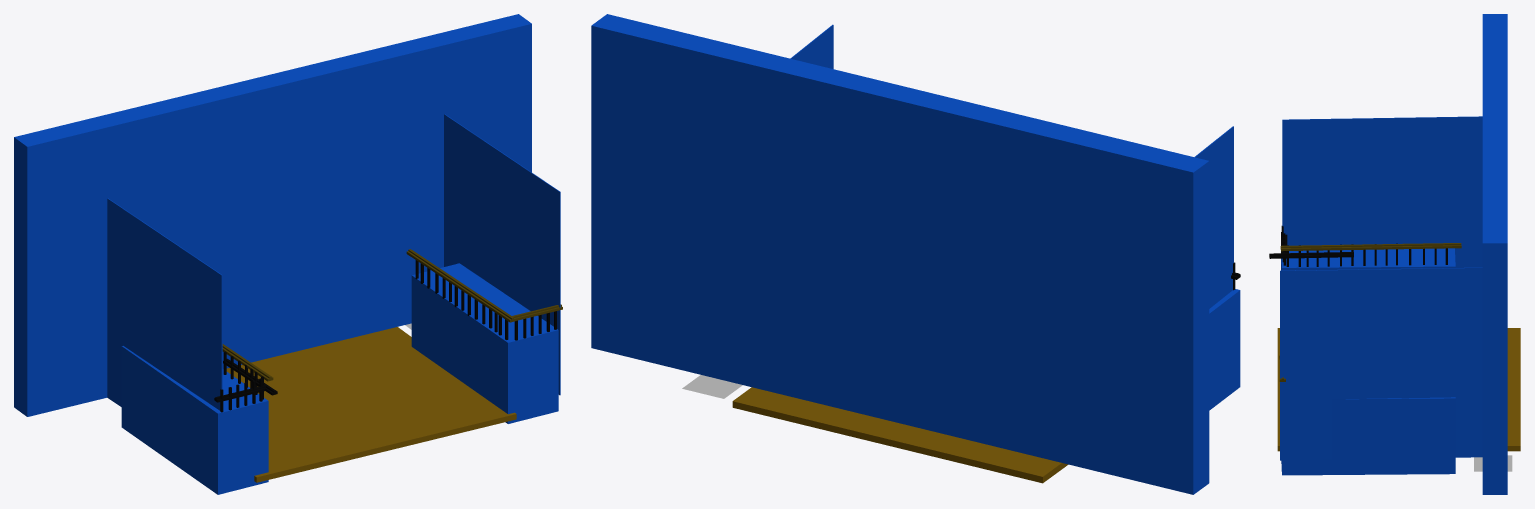
Rendered from casa_3.gltf.
3 renders of one model, left to right at view 1: azimuth 30°, elevation 25°; view 2: azimuth 150°, elevation 25°; view 3: azimuth 270°, elevation 25°, orthographic. The views are drawn at different scales.
Visible parts, largest first — view 1: pCube1, pasted__casa group3 pasted__pCube83, pasted__casa group3 pasted__pCube86, pasted__casa group3 pasted__pCube85, pasted__casa group3 pasted__pCube5, pasted__casa group3 pasted__pCube52, pasted__casa group3 pasted__pCube78; view 2: pCube1, pasted__casa group3 pasted__pCube83, pasted__casa group3 pasted__pCube86, pasted__casa group3 pasted__pCube52, pasted__casa group3 pasted__pCube85, Eduardo1:pPlane1 pasted__casa group3; view 3: pasted__casa group3 pasted__pCube85, pasted__casa group3 pasted__pCube86, pCube1, pasted__casa group3 pasted__pCube5, pasted__casa group3 pasted__pCube52, pasted__casa group3 pasted__pCube83, pasted__casa group3 pasted__pCube76, pasted__casa group3 pasted__pCube75.
Boxes of the visible parts, x1=… form: pCube1: x1=14, y1=14, x2=531, y2=416; pasted__casa group3 pasted__pCube83: x1=226, y1=327, x2=516, y2=482; pasted__casa group3 pasted__pCube86: x1=107, y1=198, x2=222, y2=410; pasted__casa group3 pasted__pCube85: x1=444, y1=114, x2=560, y2=395; pasted__casa group3 pasted__pCube5: x1=411, y1=263, x2=558, y2=423; pasted__casa group3 pasted__pCube52: x1=121, y1=346, x2=268, y2=494; pasted__casa group3 pasted__pCube78: x1=406, y1=249, x2=515, y2=322; pCube1: x1=591, y1=14, x2=1209, y2=494; pasted__casa group3 pasted__pCube83: x1=732, y1=387, x2=1068, y2=483; pasted__casa group3 pasted__pCube86: x1=1194, y1=126, x2=1233, y2=308; pasted__casa group3 pasted__pCube52: x1=1209, y1=289, x2=1240, y2=410; pasted__casa group3 pasted__pCube85: x1=790, y1=24, x2=833, y2=68; Eduardo1:pPlane1 pasted__casa group3: x1=682, y1=375, x2=742, y2=398; pasted__casa group3 pasted__pCube85: x1=1280, y1=267, x2=1482, y2=460; pasted__casa group3 pasted__pCube86: x1=1282, y1=116, x2=1482, y2=267; pCube1: x1=1482, y1=14, x2=1507, y2=494; pasted__casa group3 pasted__pCube5: x1=1281, y1=397, x2=1455, y2=475; pasted__casa group3 pasted__pCube52: x1=1281, y1=248, x2=1455, y2=270; pasted__casa group3 pasted__pCube83: x1=1277, y1=328, x2=1520, y2=451; pasted__casa group3 pasted__pCube76: x1=1280, y1=243, x2=1461, y2=251; pasted__casa group3 pasted__pCube75: x1=1269, y1=252, x2=1353, y2=258.
Size of the model in its own units: 3106 by 1699 by 1438.
